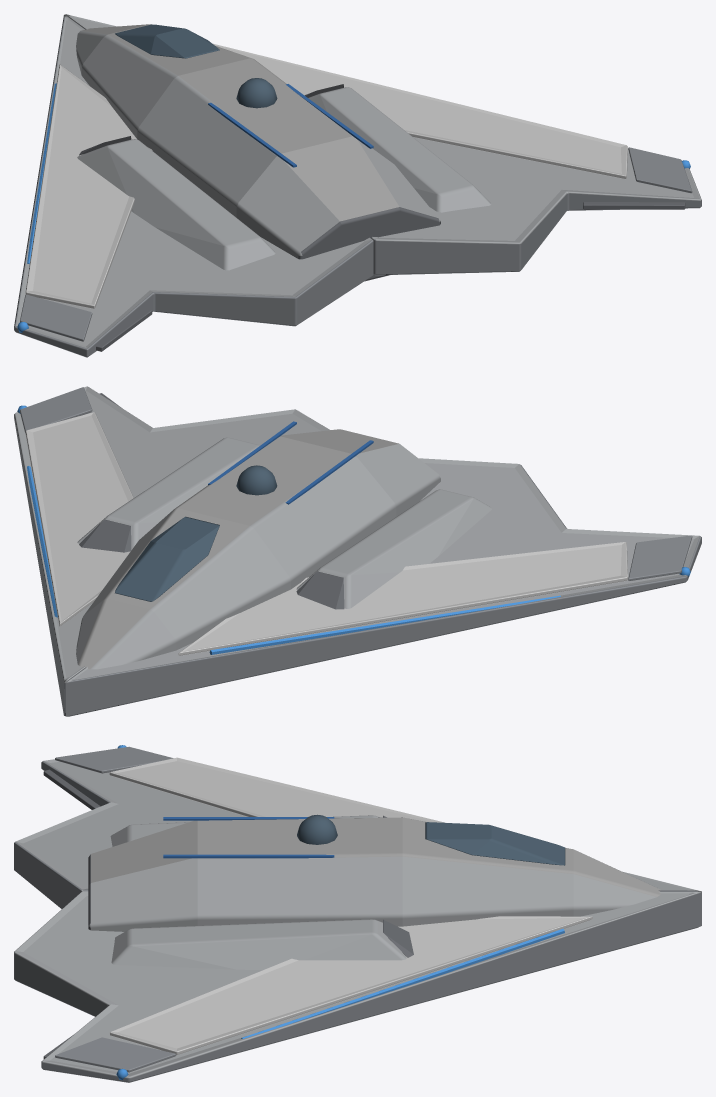
File: lattice_bomber.glb
3 views of the same model, one above another, from view 1: azimuth 30°, elevation 25°; view 2: azimuth 150°, elevation 25°; view 3: azimuth 270°, elevation 25° (orthographic).
Visible parts, largest first — view 1: Body; view 2: Body; view 3: Body.
Boxes of the visible parts, x1,y1,x2,y2 form: Body: (14, 14, 701, 357); Body: (14, 386, 701, 716); Body: (14, 745, 701, 1082).
Size of the model in its own units: 2.28 by 0.424 by 2.01.
